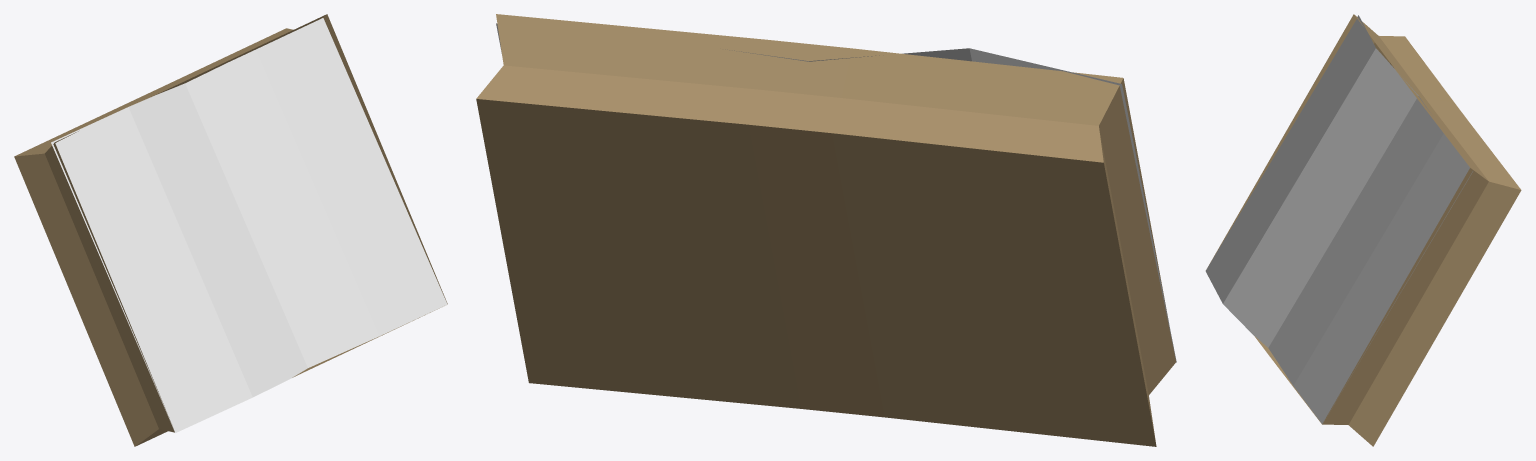
File: pizza.fbx
3 views of the same model, side by side, from view 1: azimuth 30°, elevation 25°; view 2: azimuth 150°, elevation 25°; view 3: azimuth 270°, elevation 25° (orthographic). The views are drawn at different scales.
Visible parts, largest first — view 1: Cube.026; view 2: Cube.026; view 3: Cube.026.
Part boxes in pixels (x1=…): Cube.026: x1=14, y1=14, x2=447, y2=446; Cube.026: x1=476, y1=14, x2=1176, y2=446; Cube.026: x1=1205, y1=14, x2=1521, y2=446.
Size of the model in its own units: 79.74 by 54.86 by 57.91.
